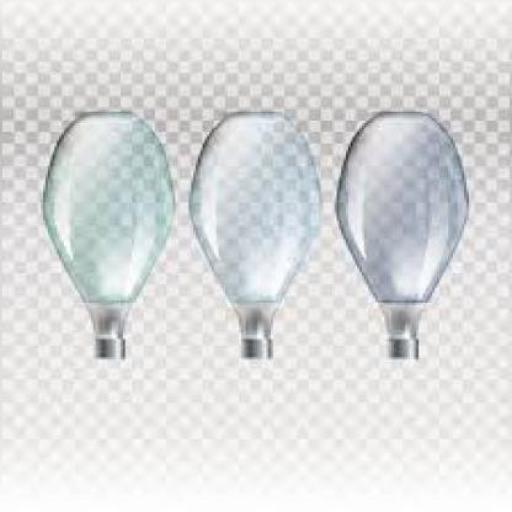glass: (194, 112, 328, 341), (46, 114, 180, 341), (337, 114, 469, 339)
metal: (95, 343, 130, 362), (389, 342, 421, 361), (246, 344, 273, 364)
